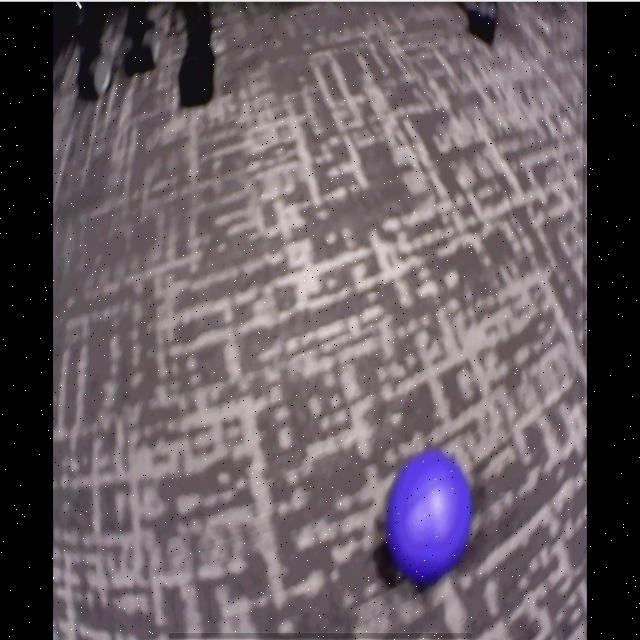ball: (386, 452, 474, 581)
